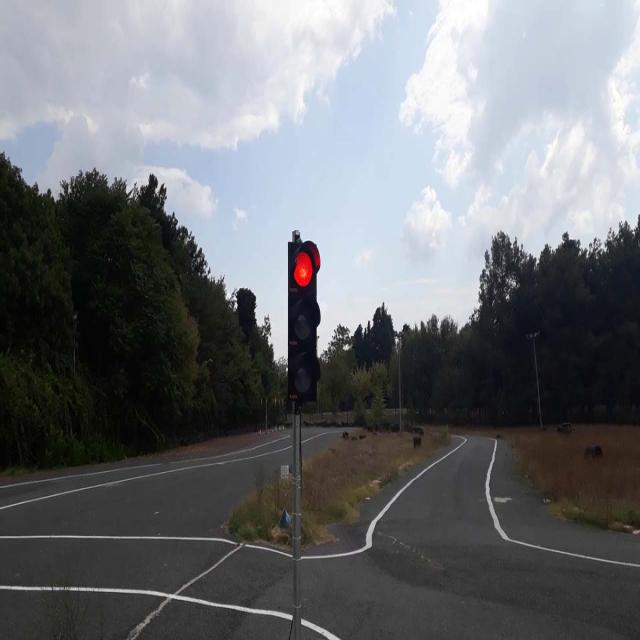kirmizi: (290, 236, 320, 398)
